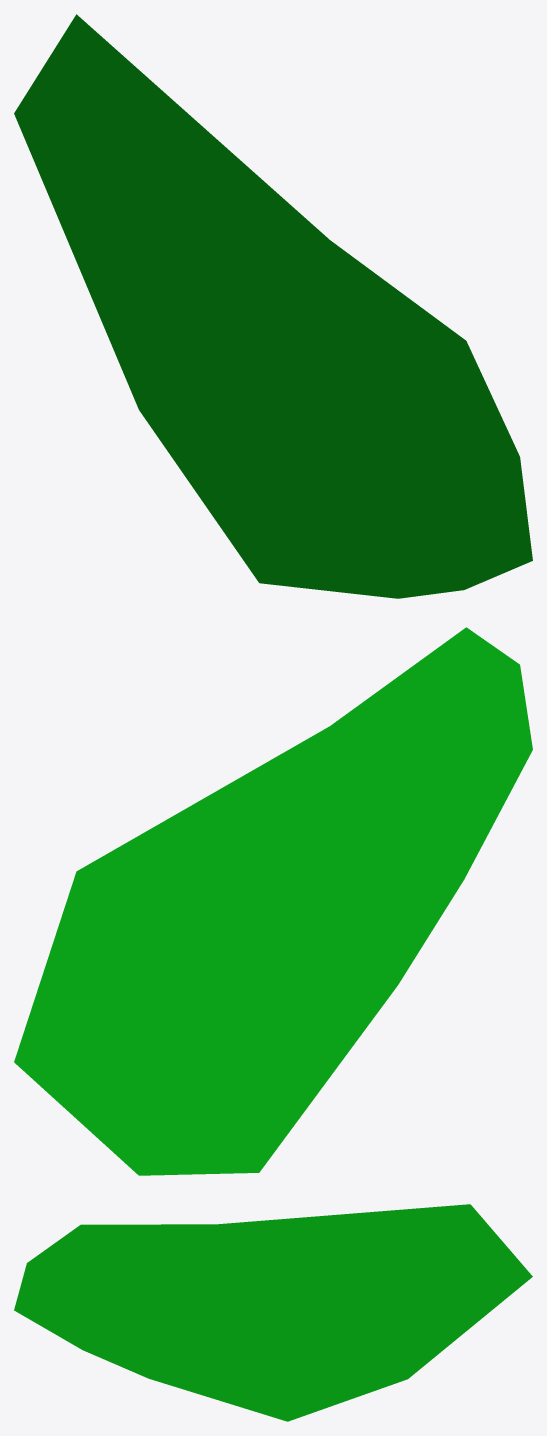
The model's file is poligonram.fbx.
3 views of the same model, one above another, from view 1: azimuth 30°, elevation 25°; view 2: azimuth 150°, elevation 25°; view 3: azimuth 270°, elevation 25° (orthographic). The views are drawn at different scales.
Visible parts, largest first — view 1: Cube; view 2: Cube; view 3: Cube.
Boxes of the visible parts, <box> form: Cube: <box>14,14,532,598</box>; Cube: <box>14,627,532,1175</box>; Cube: <box>14,1204,532,1421</box>.
Bounding box in the file's own units: 6.78e-14 × 305 × 660.
